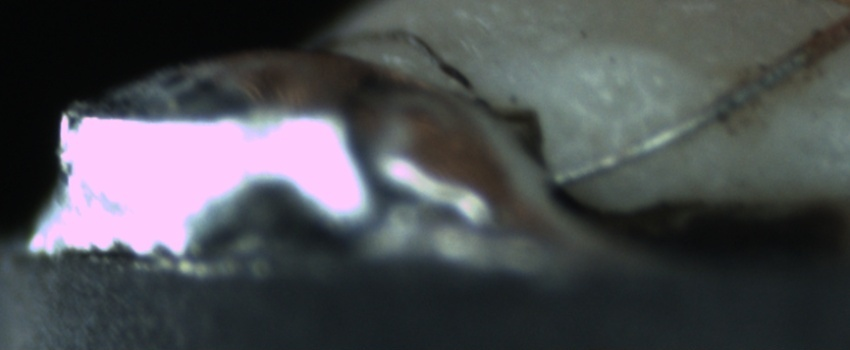TS: (553, 50, 808, 184)
